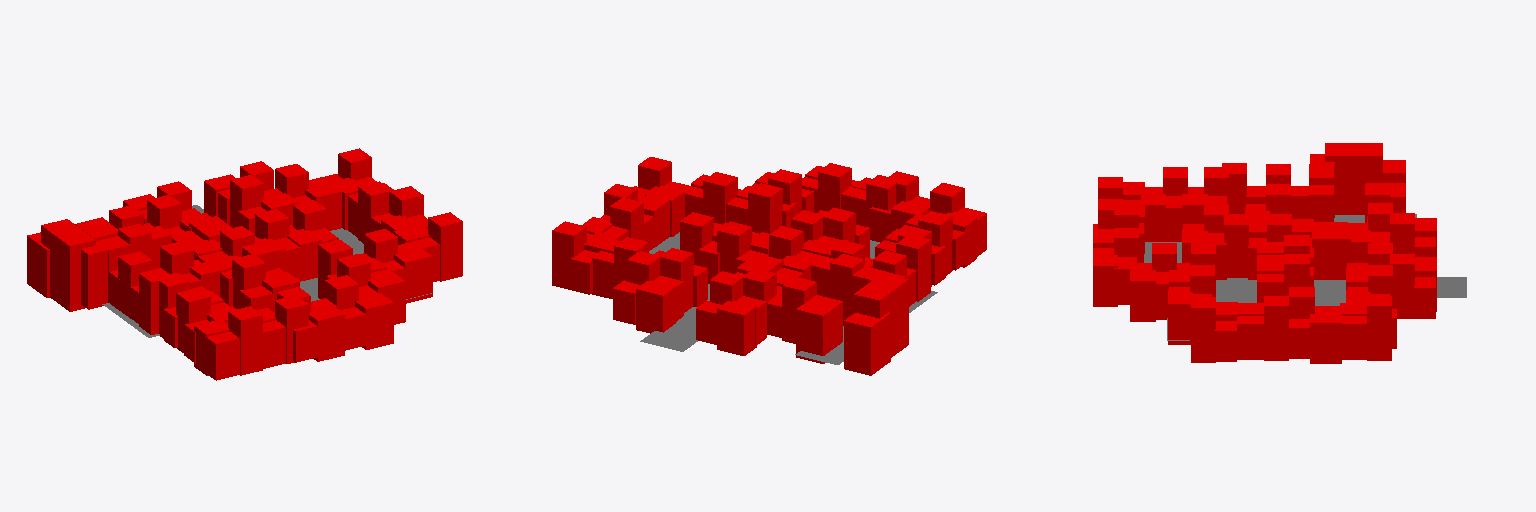
Rendered from Track 1.obj.
3 renders of one model, left to right at view 1: azimuth 30°, elevation 25°; view 2: azimuth 150°, elevation 25°; view 3: azimuth 270°, elevation 25°, orthographic.
Visible parts, largest first — view 1: Track 1; view 2: Track 1; view 3: Track 1.
Part boxes in pixels (x1,y1,x2,y2): Track 1: (27, 148, 462, 380); Track 1: (552, 157, 986, 375); Track 1: (1093, 143, 1466, 363).
Size of the model in its own units: 383 by 76.2 by 375.